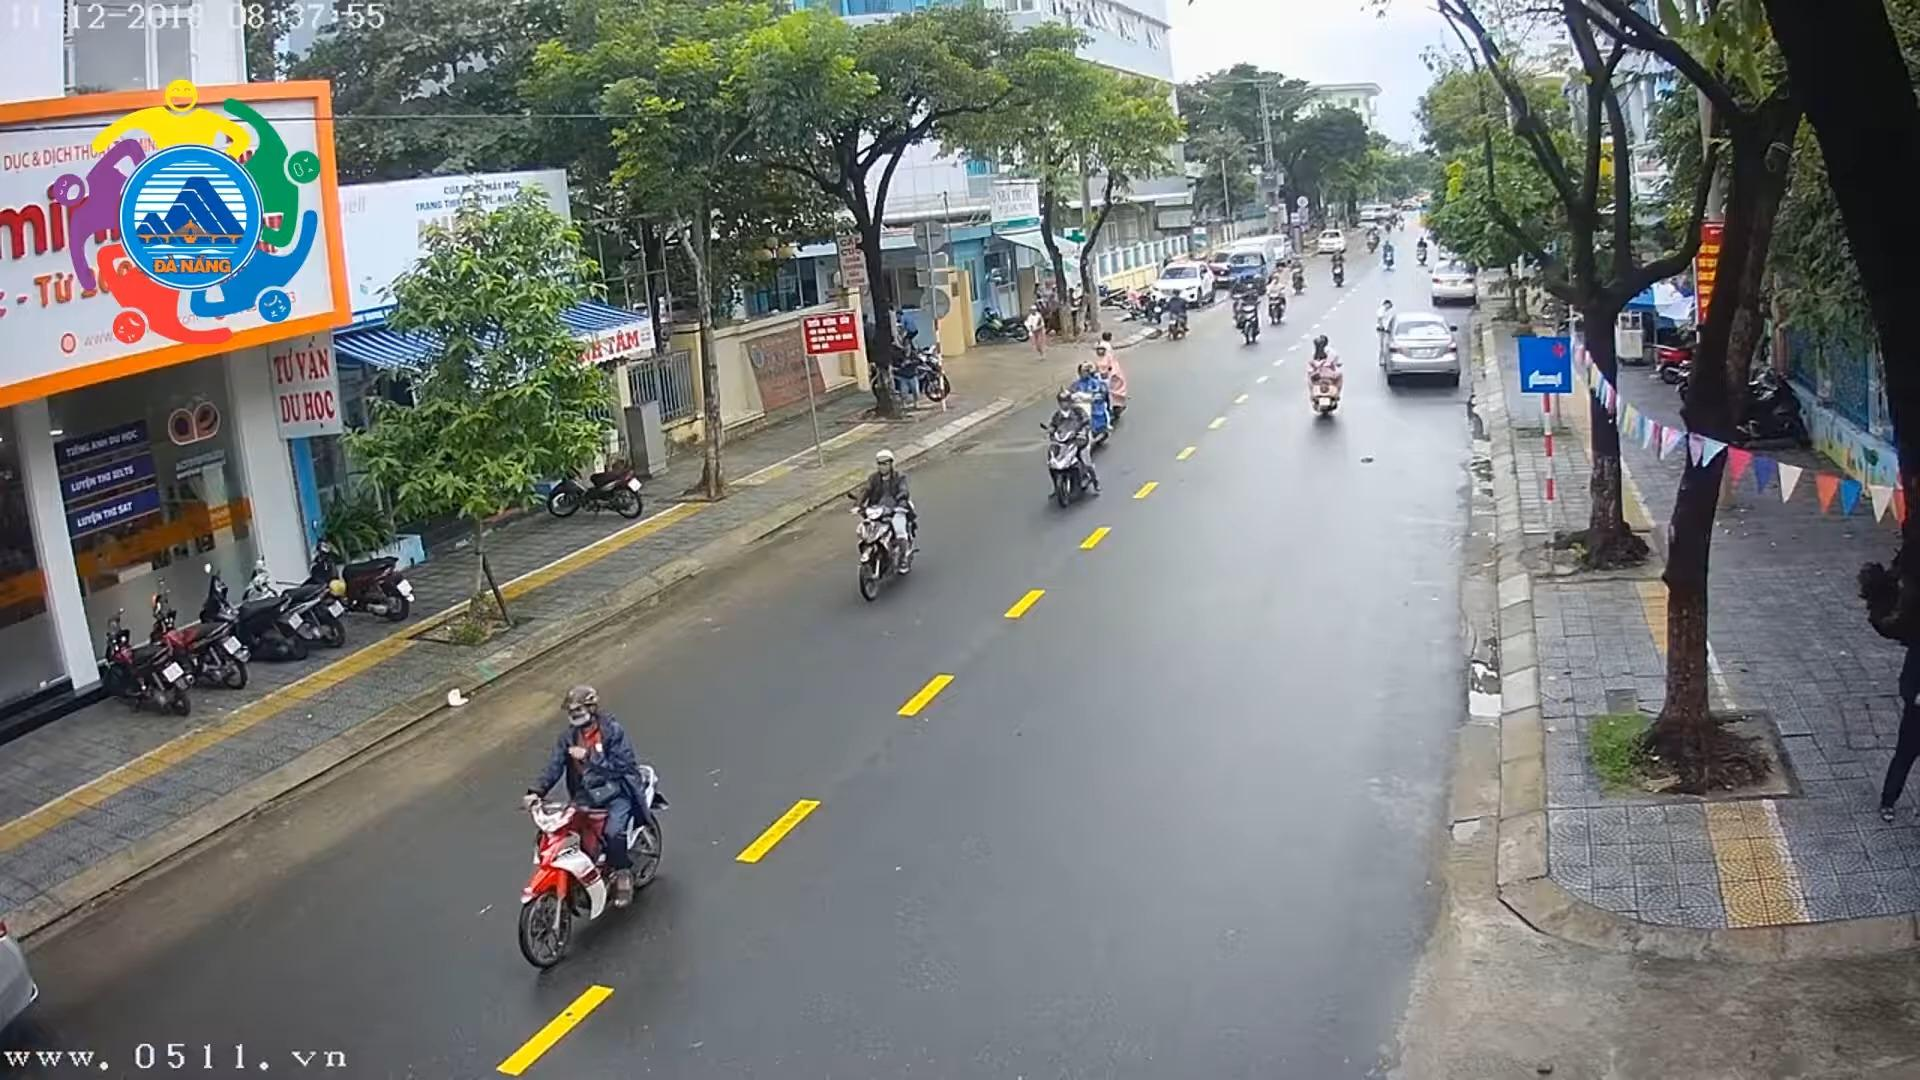car: (1377, 309, 1466, 389), (1149, 260, 1216, 310), (1425, 260, 1480, 306), (1204, 247, 1241, 290), (1316, 225, 1346, 256)
motorcycle: (489, 663, 690, 976), (843, 439, 930, 608), (198, 555, 311, 665), (150, 576, 249, 692), (96, 603, 193, 719), (237, 550, 345, 650), (543, 443, 658, 535), (307, 527, 413, 625), (1034, 386, 1106, 513), (868, 344, 955, 404), (1059, 356, 1110, 452), (1302, 326, 1348, 423), (1087, 334, 1134, 421), (972, 307, 1034, 344), (1036, 298, 1092, 336), (1162, 284, 1192, 345), (1237, 280, 1263, 349), (1134, 290, 1175, 328), (1262, 272, 1288, 330), (1286, 253, 1312, 301), (1226, 273, 1249, 328), (1327, 244, 1352, 291), (1096, 281, 1134, 309), (1411, 233, 1432, 270), (1379, 236, 1399, 274)
truck: (1221, 232, 1283, 297)
